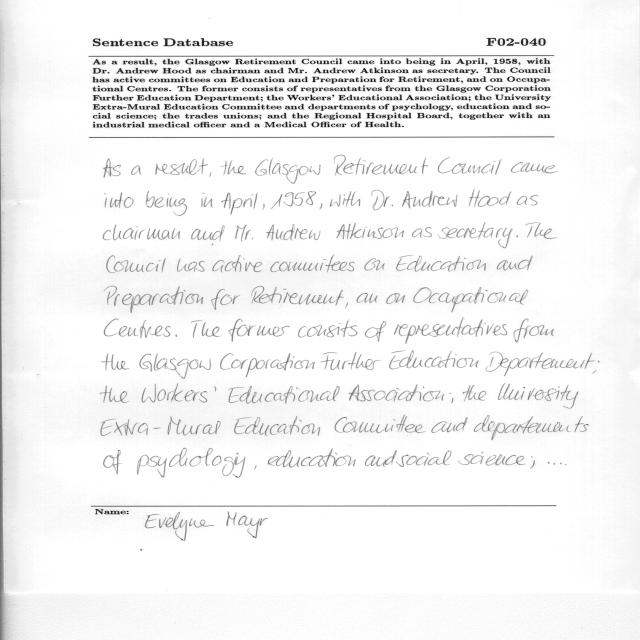word: (137, 448, 245, 478), (394, 318, 507, 344), (414, 287, 529, 312), (474, 415, 589, 440), (486, 352, 595, 377), (105, 286, 204, 313), (101, 416, 221, 436), (220, 353, 315, 377), (498, 383, 578, 409), (229, 386, 340, 404), (334, 155, 429, 176), (438, 223, 512, 249), (139, 353, 212, 379), (251, 286, 344, 306), (234, 416, 320, 436), (255, 158, 321, 184), (349, 384, 444, 402), (267, 449, 356, 468), (335, 415, 426, 433), (389, 351, 479, 369), (396, 255, 486, 272), (142, 383, 217, 403), (271, 255, 355, 272), (229, 319, 290, 342), (104, 319, 171, 339), (437, 157, 502, 175), (103, 225, 180, 240), (320, 352, 381, 370), (336, 223, 404, 239), (298, 320, 358, 338), (107, 256, 166, 274), (146, 191, 187, 216), (514, 319, 554, 343), (402, 191, 458, 208), (458, 452, 526, 466), (155, 158, 208, 175), (396, 451, 452, 467), (266, 224, 320, 240), (213, 255, 263, 272), (221, 193, 258, 215), (271, 191, 316, 209), (469, 189, 511, 207), (191, 225, 225, 246), (211, 289, 240, 310), (432, 417, 468, 433), (365, 450, 397, 467), (497, 256, 533, 271), (191, 320, 221, 338), (526, 222, 557, 239), (511, 162, 558, 173), (330, 191, 360, 207), (101, 386, 129, 403), (105, 192, 134, 208), (365, 321, 387, 342), (102, 354, 129, 371), (371, 190, 393, 210), (104, 450, 122, 474), (463, 385, 487, 402), (221, 160, 246, 175), (177, 259, 205, 272), (104, 159, 121, 178), (235, 225, 253, 242), (364, 258, 385, 271), (412, 227, 432, 238), (517, 195, 538, 205), (357, 293, 378, 303), (386, 293, 405, 304), (201, 193, 213, 207), (131, 165, 141, 175), (592, 360, 599, 374), (530, 456, 535, 469), (450, 393, 454, 404), (320, 203, 323, 210), (262, 204, 265, 210), (345, 303, 348, 309), (254, 465, 257, 470), (209, 172, 211, 177), (175, 334, 177, 337), (516, 235, 518, 237), (548, 462, 550, 464)
